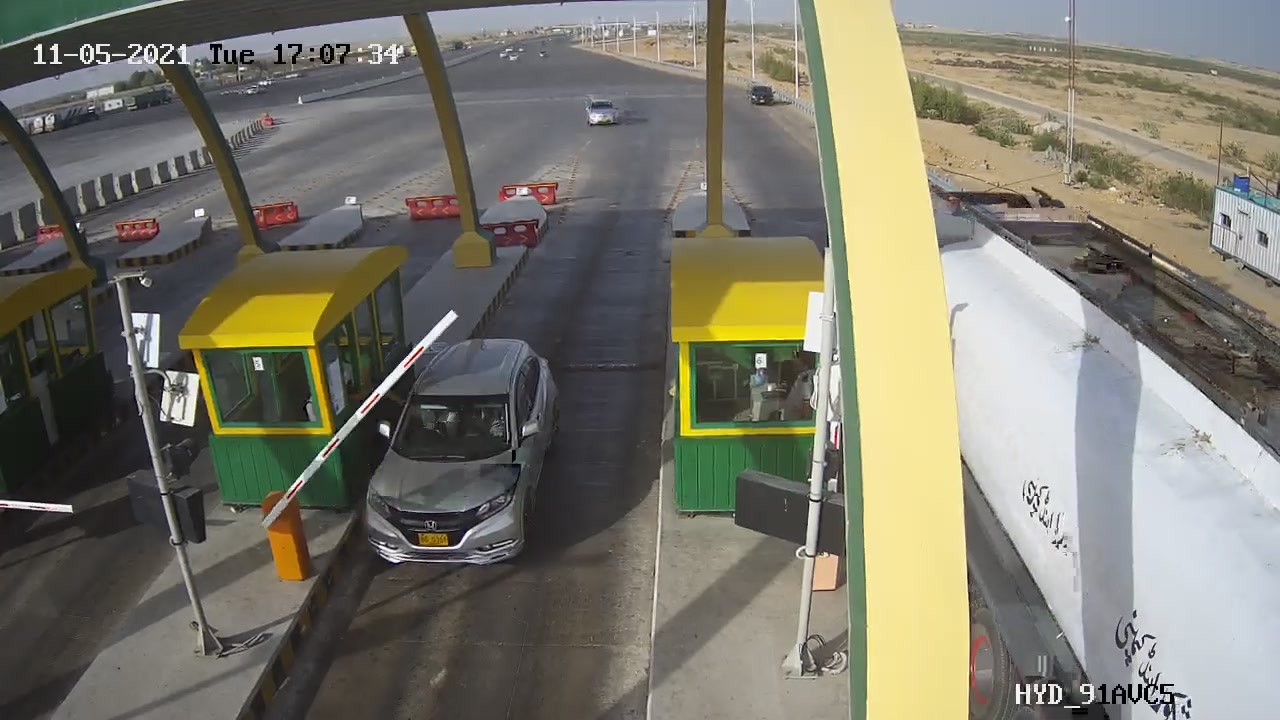F1: (347, 307, 586, 587)
